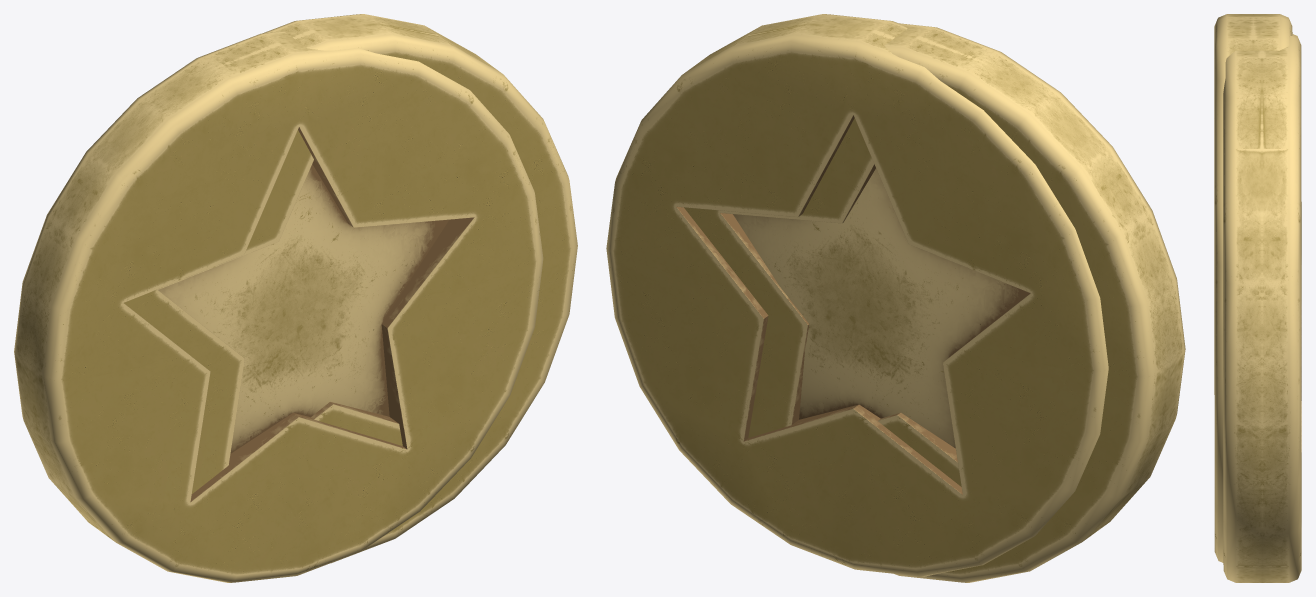
The model's file is Coin.fbx.
The picture shows the model from 3 angles, left to right: view 1: azimuth 30°, elevation 25°; view 2: azimuth 150°, elevation 25°; view 3: azimuth 270°, elevation 25°; orthographic projection. The views are drawn at different scales.
Parts seen in each view (by area): view 1: Coin.001, Coin; view 2: Coin, Coin.001; view 3: Coin, Coin.001.
Part boxes in pixels (left/top/right/bottom): Coin.001: left=14, top=31, right=543, bottom=582; Coin: left=124, top=14, right=577, bottom=563; Coin: left=606, top=14, right=1108, bottom=576; Coin.001: left=684, top=23, right=1185, bottom=582; Coin: left=1223, top=34, right=1301, bottom=582; Coin.001: left=1214, top=14, right=1292, bottom=562.
Bounding box in the file's own units: 66.69 × 61.86 × 9.79.
